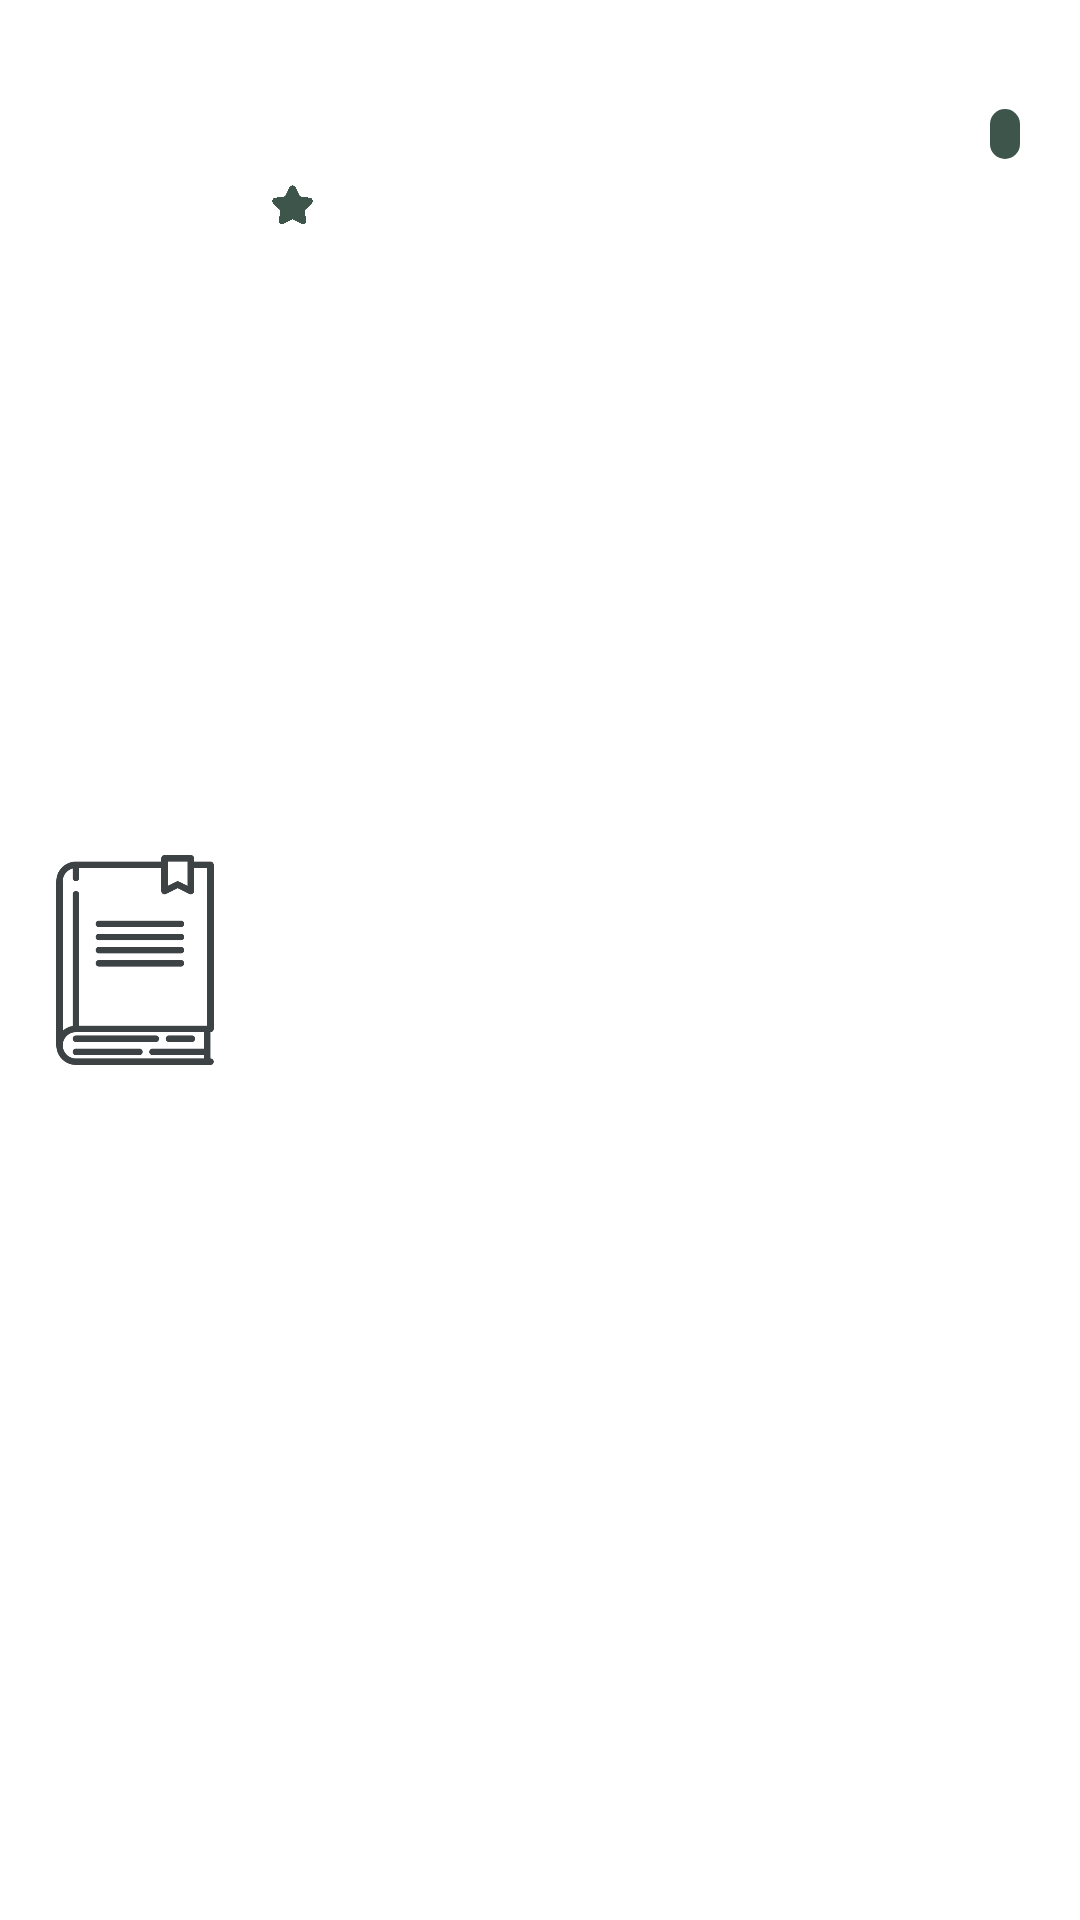

Where icons sit on this 1080 x 1920 app screen, as (x1, y1, x2, y2):
book: (56, 855, 214, 1065)
star: (272, 185, 313, 224)
